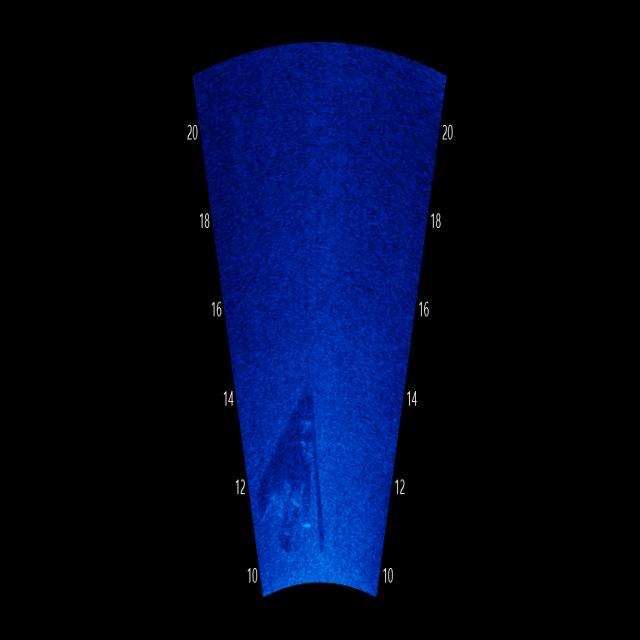triangle: (267, 364, 338, 570)
